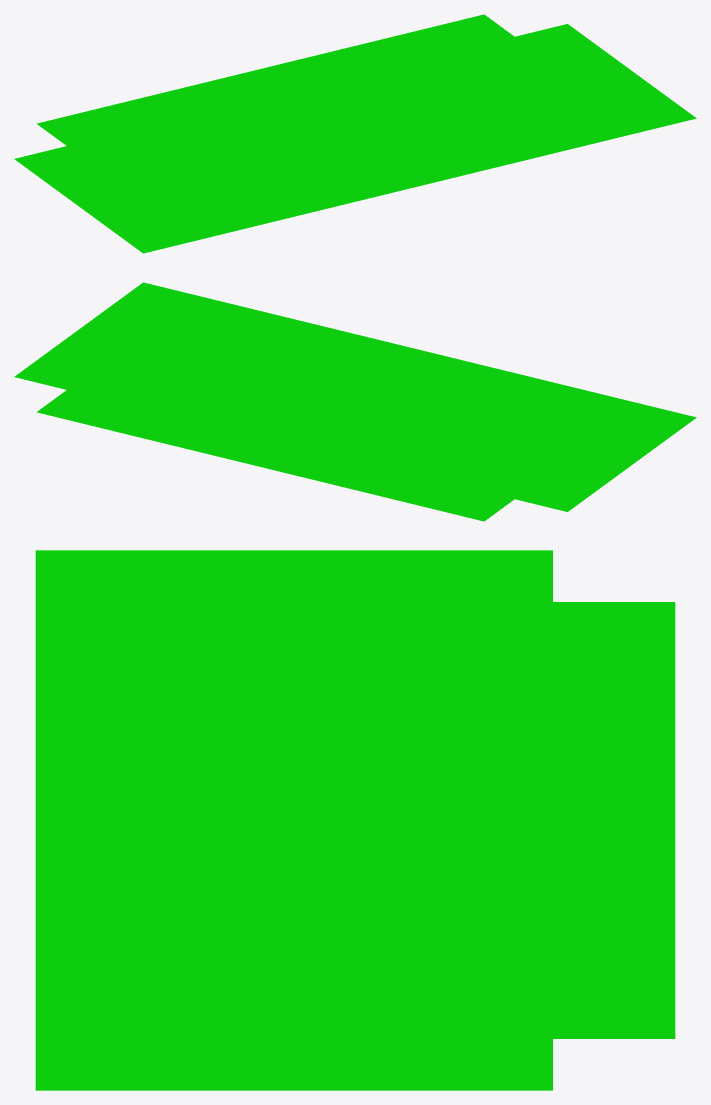
The model's file is c_tunnel_junction_g.fbx.
3 renders of one model, top to bottom at view 1: azimuth 30°, elevation 25°; view 2: azimuth 150°, elevation 25°; view 3: azimuth 270°, elevation 25°, orthographic. The views are drawn at different scales.
Parts seen in each view (by area): view 1: coll_tunnel_junctoin_g; view 2: coll_tunnel_junctoin_g; view 3: coll_tunnel_junctoin_g.
Boxes of the visible parts, x1,y1,x2,y2 form: coll_tunnel_junctoin_g: [14, 14, 696, 253]; coll_tunnel_junctoin_g: [14, 282, 696, 521]; coll_tunnel_junctoin_g: [35, 550, 675, 1090].
Size of the model in its own units: 2400 by 0.00114 by 1200.
